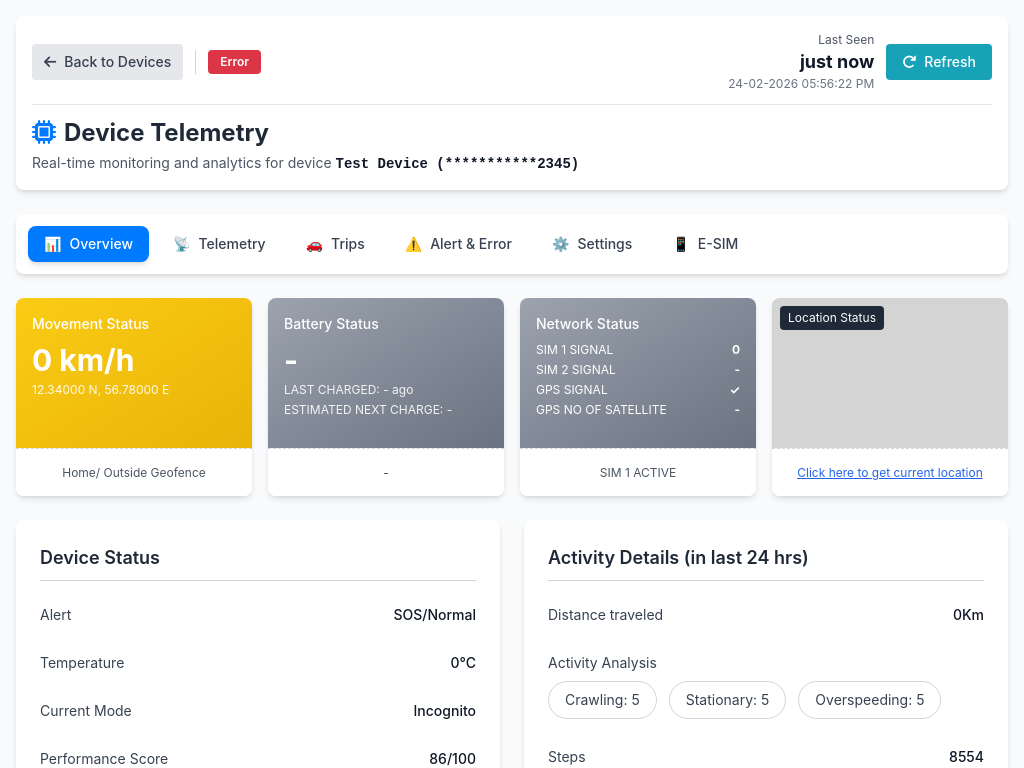
Test: Preservation Property Tests: Other Settings Tab Features › Property 2.1: Contacts section displays phone numbers correctly
Note: Navigate to Settings tab
What coordinates should you click on to do the following:
click the button "⚙️ Settings"
I would click on:
 (592, 244)
Its box is left=536, top=226, right=648, bottom=262.
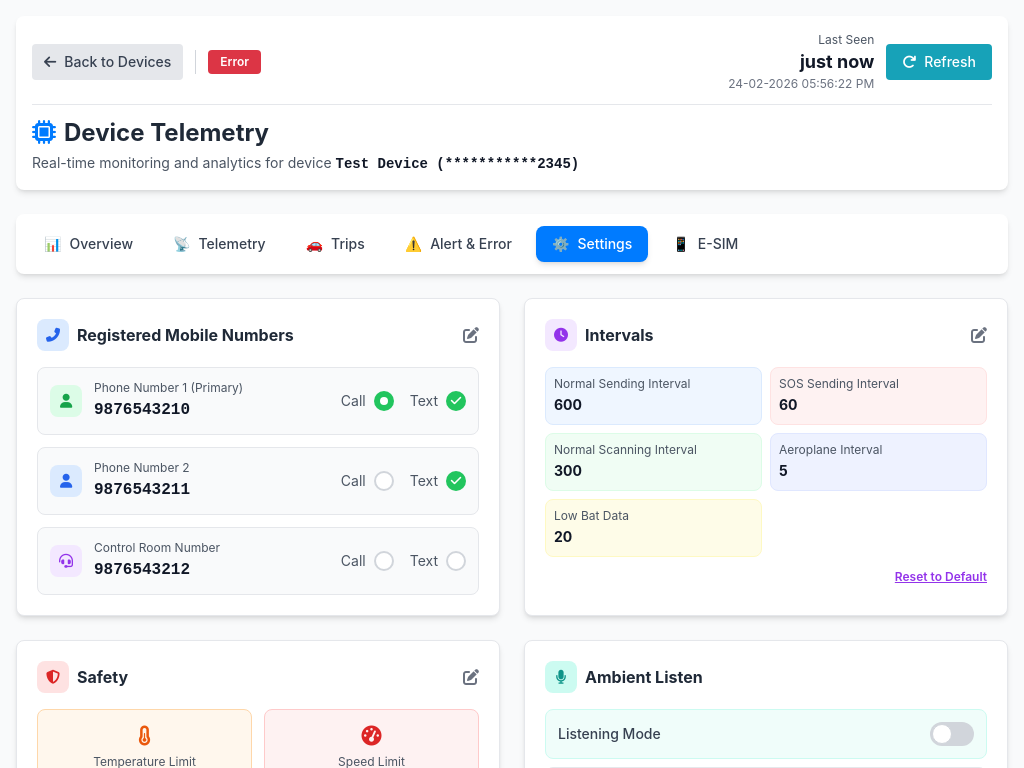
Expected: the heading "Registered Mobile Numbers" is shown, left=37, top=319, right=294, bottom=351
Expected: the text "9876543210" is shown, left=94, top=401, right=190, bottom=419
Expected: the text "9876543211" is shown, left=94, top=481, right=190, bottom=499
